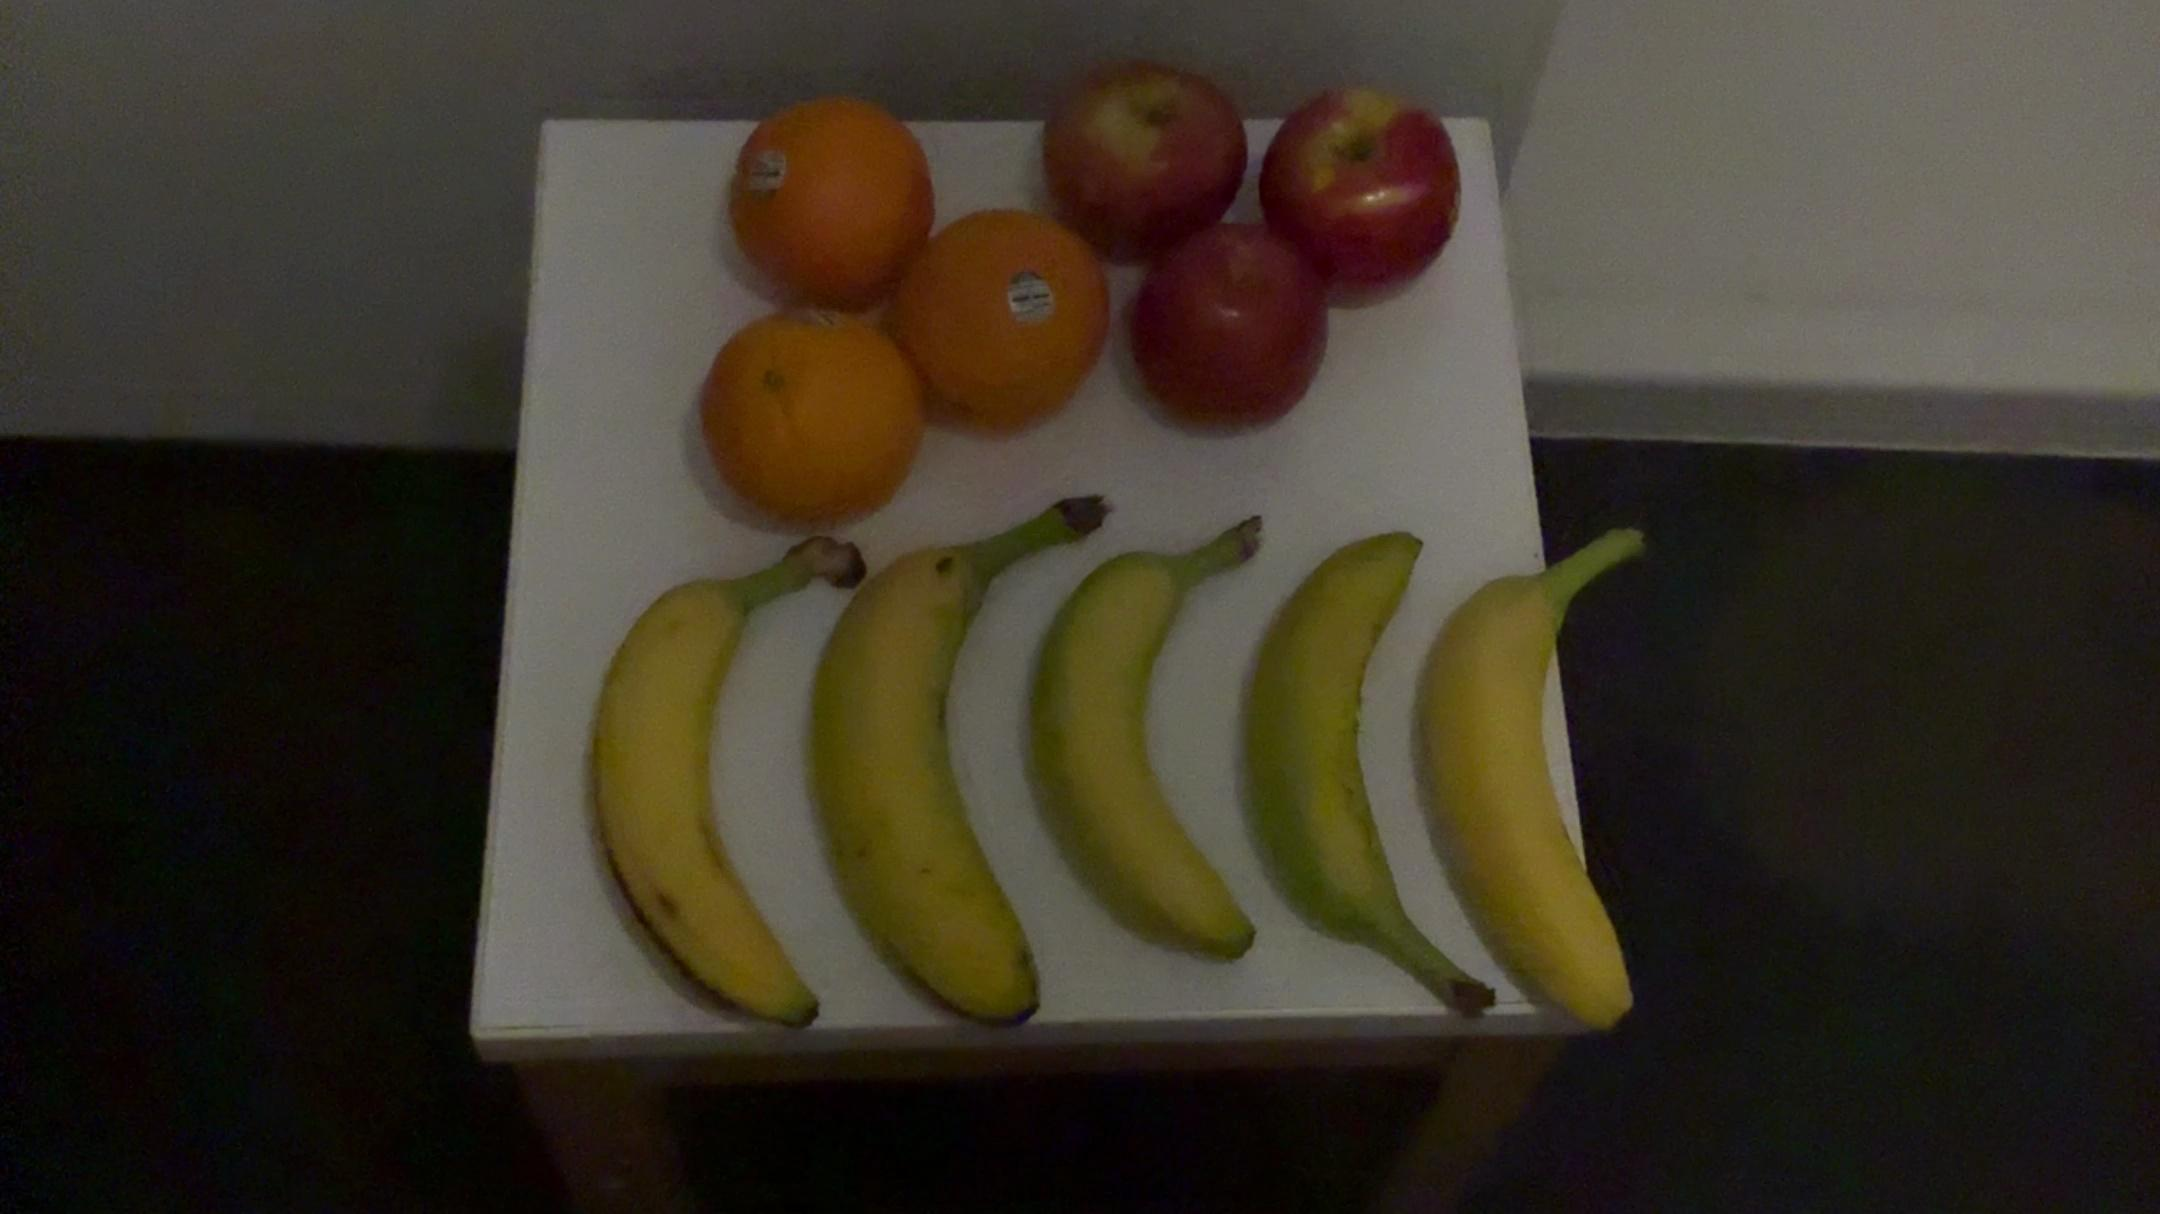apple: (1251, 77, 1478, 310), (1111, 229, 1337, 448), (1033, 56, 1245, 257)
banana: (800, 473, 1107, 1040), (595, 499, 850, 1046), (1248, 516, 1498, 1030), (1027, 487, 1280, 984), (1420, 497, 1644, 1045)
orange: (886, 193, 1116, 454), (691, 303, 912, 542), (721, 93, 941, 303)
